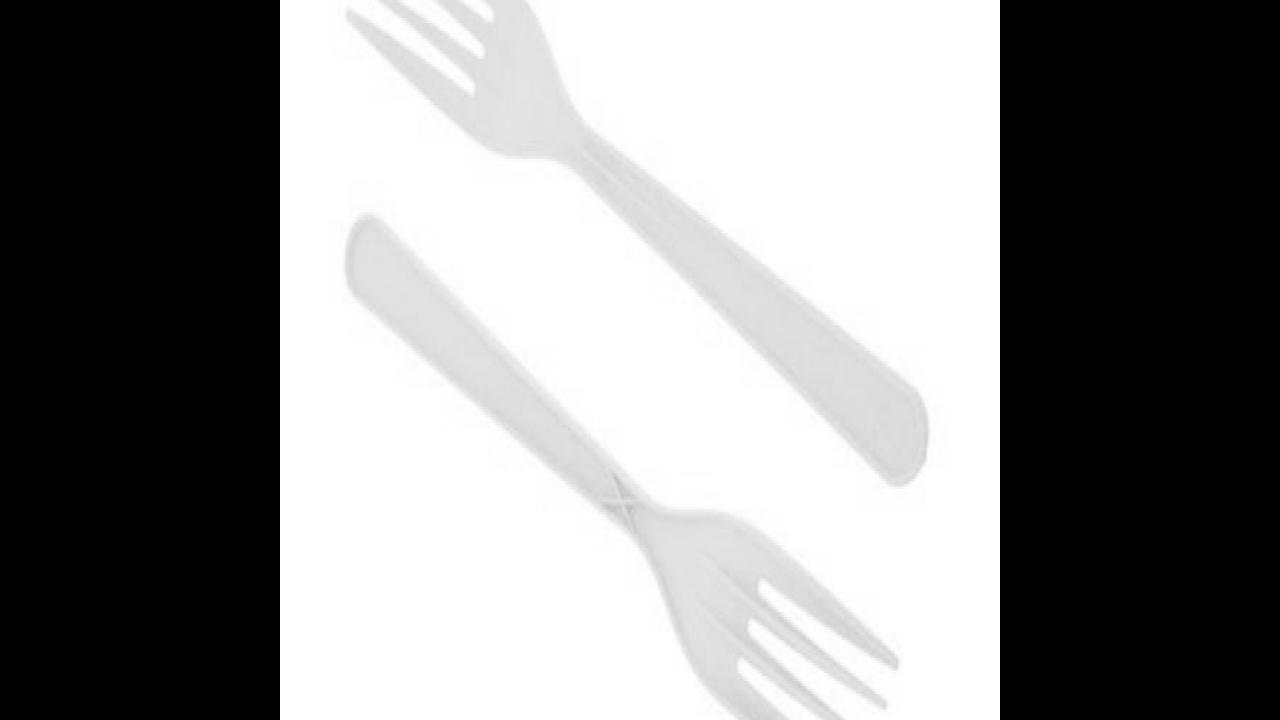fork: (343, 0, 927, 490), (341, 211, 899, 720)
